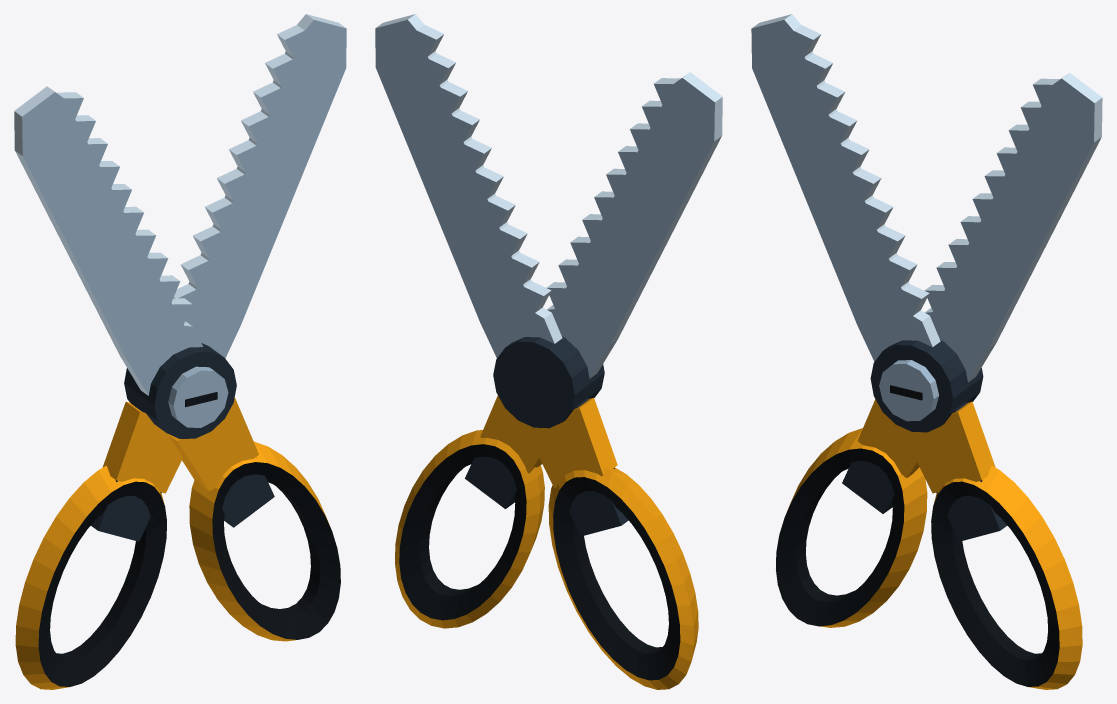
File: PinkingShears_Normal.obj
3 renders of one model, left to right at view 1: azimuth 30°, elevation 25°; view 2: azimuth 150°, elevation 25°; view 3: azimuth 330°, elevation 25°, orthographic.
Parts seen in each view (by area): view 1: Steel, WarmGrip, Rubber, DarkSteel, BladeHighlight; view 2: Steel, WarmGrip, Rubber, DarkSteel, BladeHighlight; view 3: Steel, Rubber, WarmGrip, DarkSteel, BladeHighlight.
Part boxes in pixels (<box>): Steel: <box>22,20,346,427</box>; WarmGrip: <box>15,398,329,689</box>; Rubber: <box>38,392,340,686</box>; DarkSteel: <box>91,343,274,541</box>; BladeHighlight: <box>14,14,345,395</box>; Steel: <box>375,19,714,378</box>; WarmGrip: <box>395,395,698,689</box>; Rubber: <box>399,444,680,680</box>; DarkSteel: <box>465,336,628,536</box>; BladeHighlight: <box>376,14,722,378</box>; Steel: <box>751,20,1094,421</box>; Rubber: <box>776,385,1059,686</box>; WarmGrip: <box>786,399,1082,689</box>; DarkSteel: <box>842,339,1007,541</box>; BladeHighlight: <box>752,14,1102,382</box>.
Size of the model in its own units: 0.1459 by 0.2566 by 0.0274.
